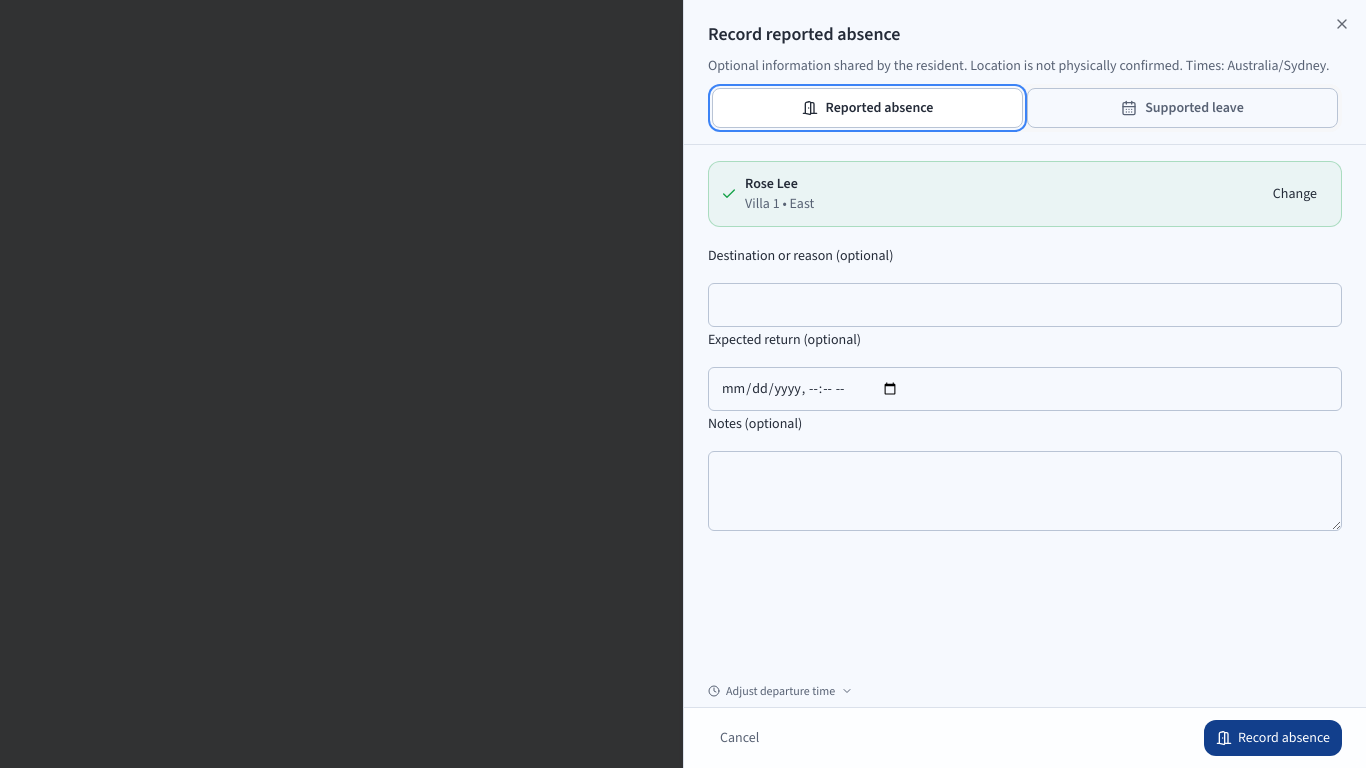
Test: resident movement guarded interactions › independent sheet allows empty optional fields and retains them after failure
Later steps or results of the test are not shown.
Click the button "Record absence" at (1273, 738), box top-left (1204, 720), bottom-right (1342, 756)
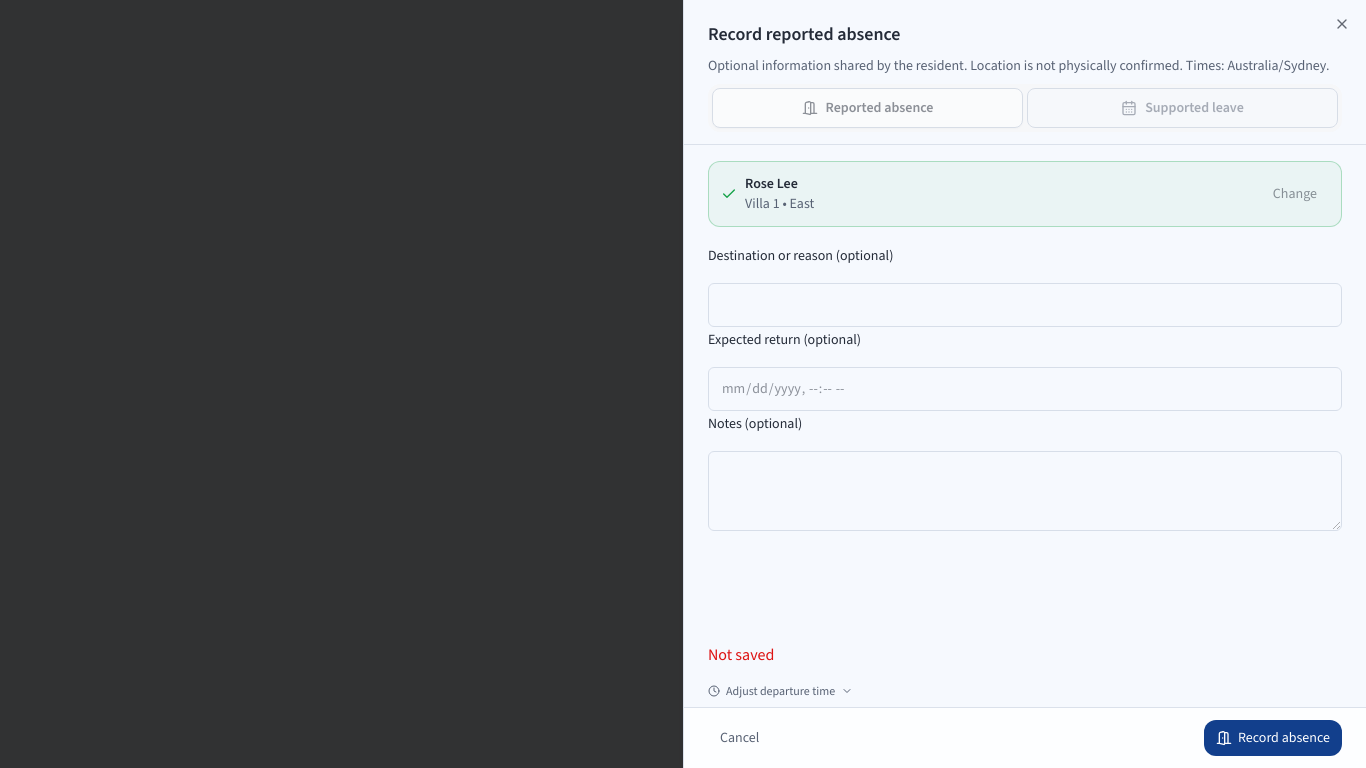
Now the message "Not saved" is shown, box top-left (708, 644), bottom-right (774, 665)
